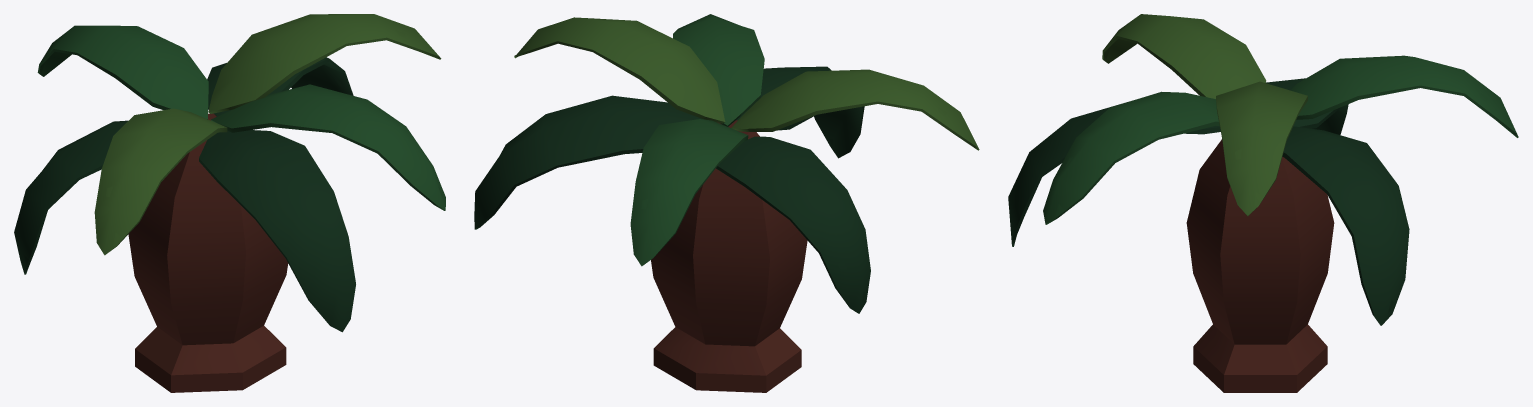
File: shortTree.fbx
The picture shows the model from 3 angles, left to right: view 1: azimuth 30°, elevation 25°; view 2: azimuth 150°, elevation 25°; view 3: azimuth 270°, elevation 25°; orthographic projection. The views are drawn at different scales.
Parts seen in each view (by area): view 1: trunk, leaf01, leaf06, leaf02, leaf07, leaf05, leaf03, leaf04; view 2: trunk, leaf03, leaf04, leaf06, leaf05, leaf07, leaf02, leaf01; view 3: trunk, leaf04, leaf02, leaf06, leaf05, leaf07, leaf01, leaf03.
Boxes of the visible parts, <box> form: trunk: <box>128,113,288,392</box>; leaf01: <box>199,130,355,332</box>; leaf06: <box>208,14,441,113</box>; leaf02: <box>211,84,445,210</box>; leaf07: <box>94,108,227,255</box>; leaf05: <box>37,25,208,119</box>; leaf03: <box>14,120,127,274</box>; leaf04: <box>207,57,353,116</box>; trunk: <box>651,120,807,392</box>; leaf03: <box>716,136,870,313</box>; leaf04: <box>474,95,704,229</box>; leaf06: <box>514,17,725,123</box>; leaf05: <box>630,119,748,266</box>; leaf07: <box>731,69,979,150</box>; leaf02: <box>673,14,764,126</box>; leaf01: <box>736,66,864,158</box>; trunk: <box>1186,139,1334,392</box>; leaf04: <box>1282,126,1409,325</box>; leaf02: <box>1043,91,1219,224</box>; leaf06: <box>1216,81,1307,216</box>; leaf05: <box>1291,55,1518,137</box>; leaf07: <box>1102,14,1266,98</box>; leaf01: <box>1008,102,1220,246</box>; leaf03: <box>1266,78,1348,134</box>.
Size of the model in its own units: 2.19 by 1.65 by 2.35.
